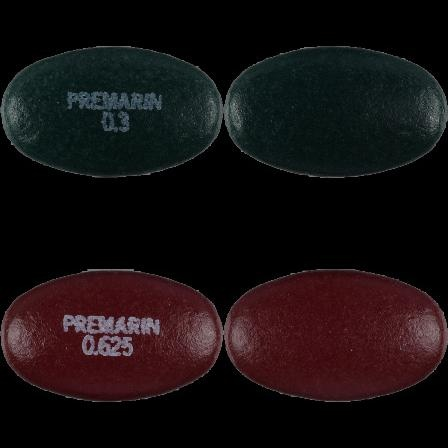43353-687: (0, 0, 224, 224)
